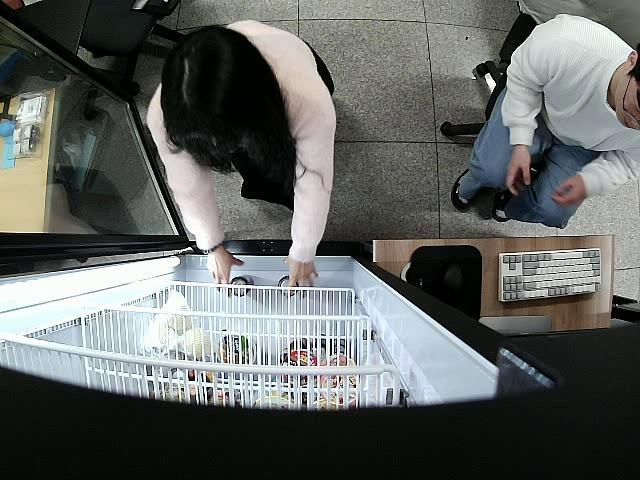14_welchsGrape: (230, 275, 256, 298), (278, 276, 302, 300)
